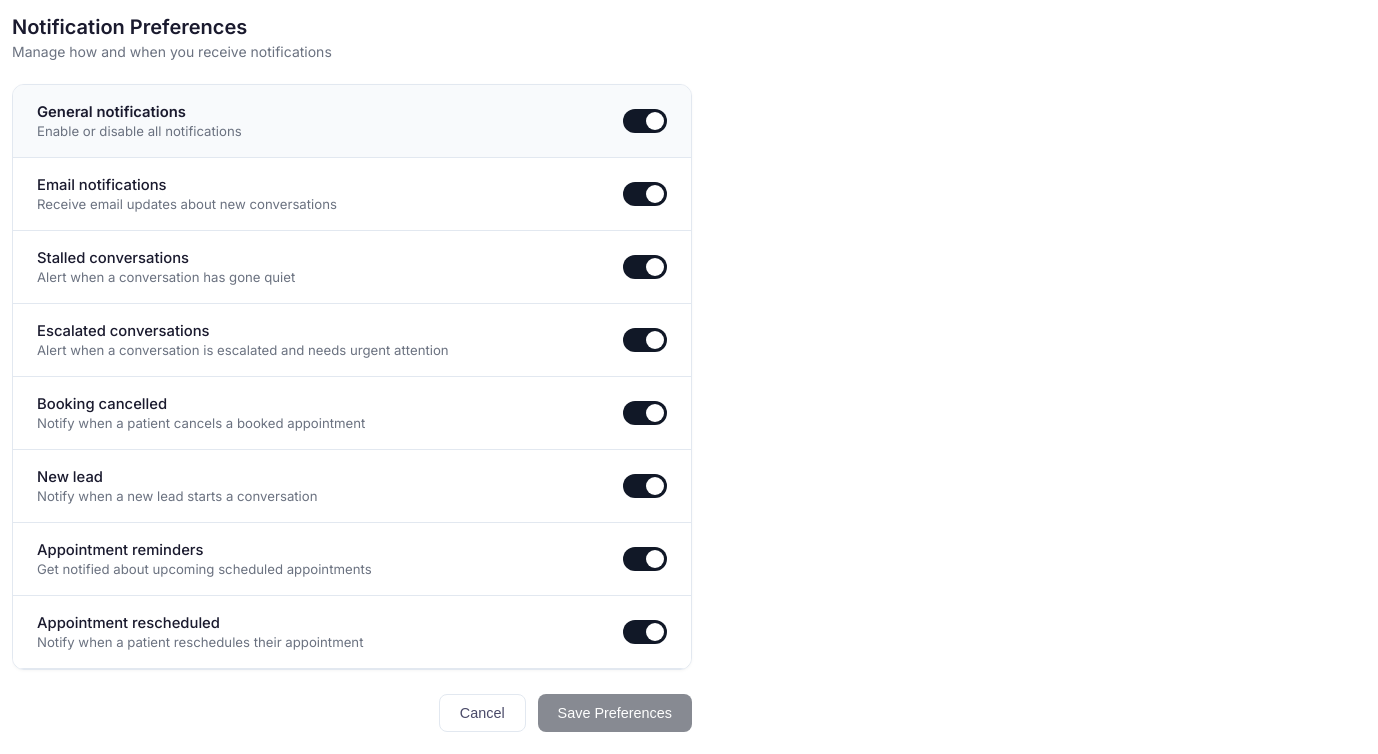
Scenario: NotificationPreferences › shows error alert when PATCH fails
The image size is (1378, 754).
Click the switch named "Email notifications": [645, 194] box top-left (623, 182), bottom-right (667, 206)
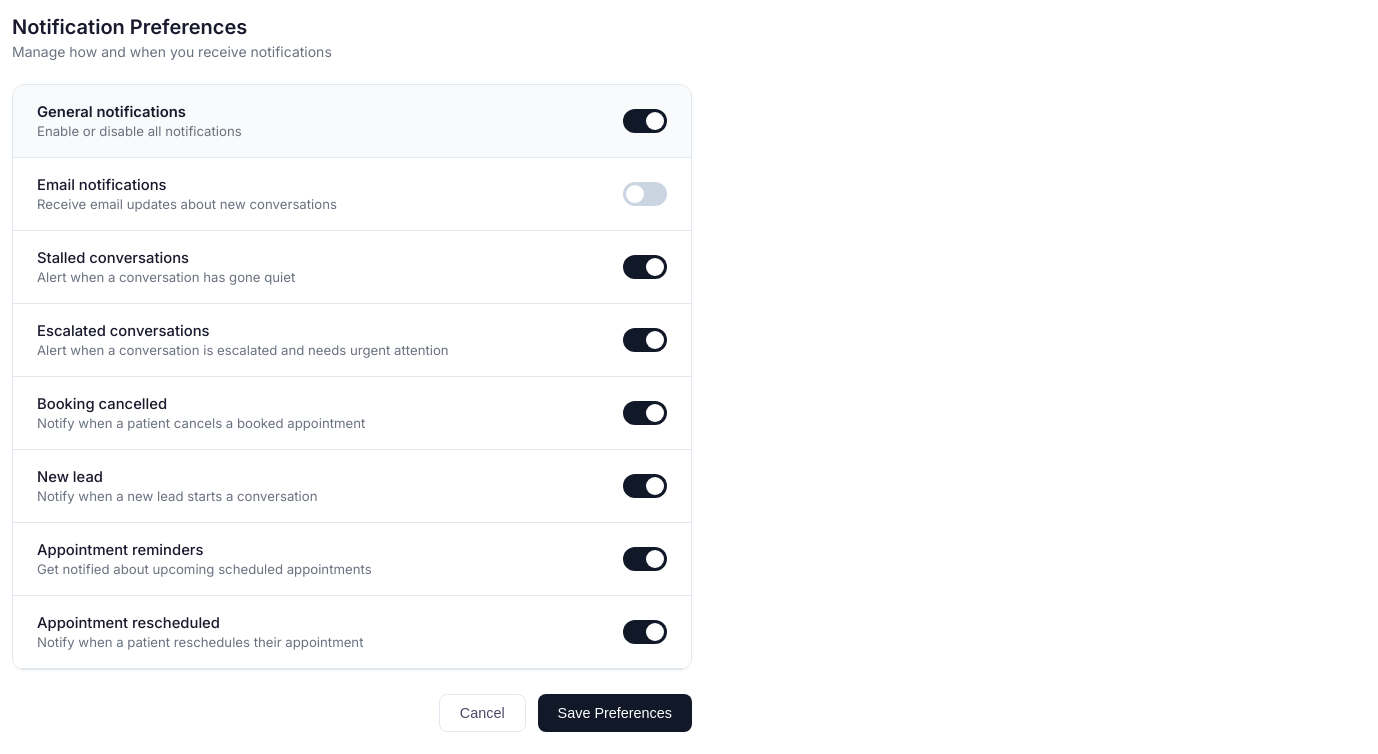
Click the button "Save Preferences": [615, 713] box top-left (538, 694), bottom-right (692, 732)
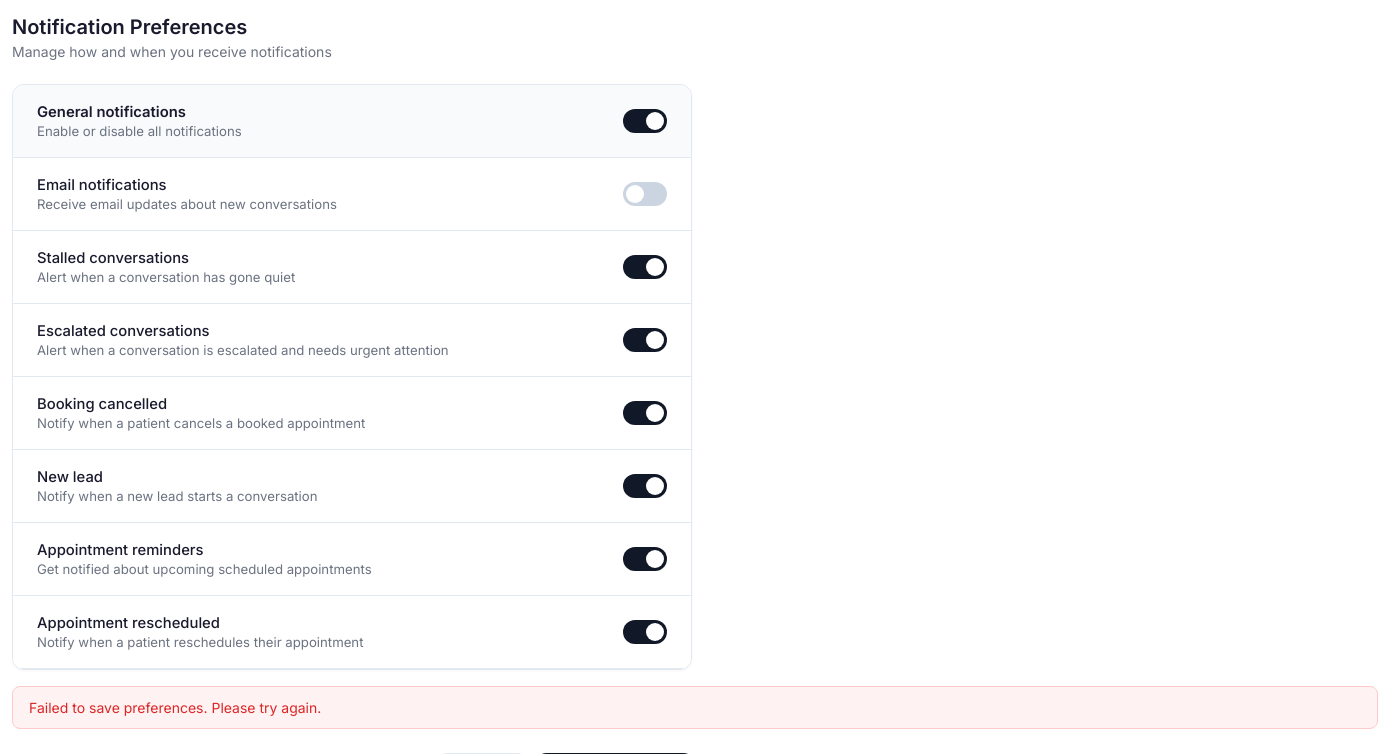
Result: the text "Failed to save preferences. Please try again." is shown at top-left (12, 686), bottom-right (1377, 729)
